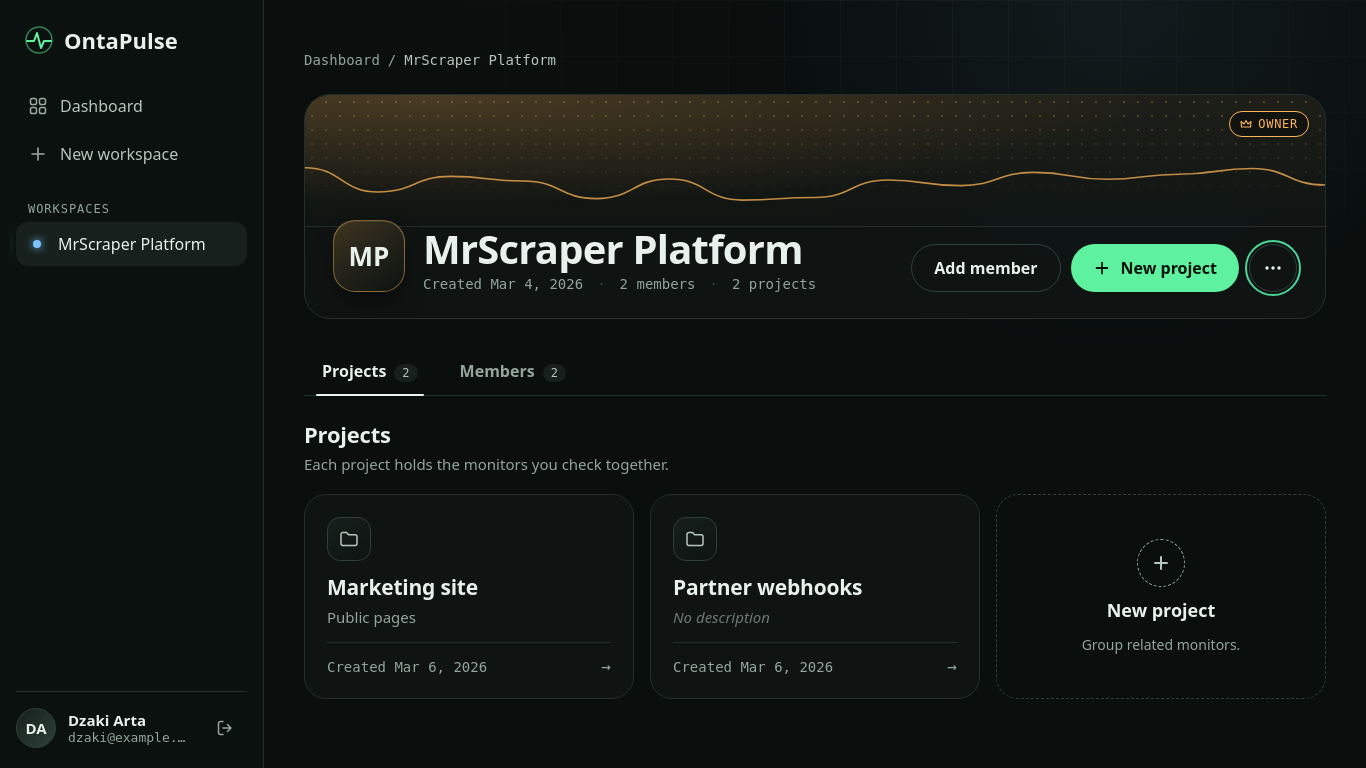
it: WorkspacePage › rename and delete › renames the workspace and updates the title
Press Enter
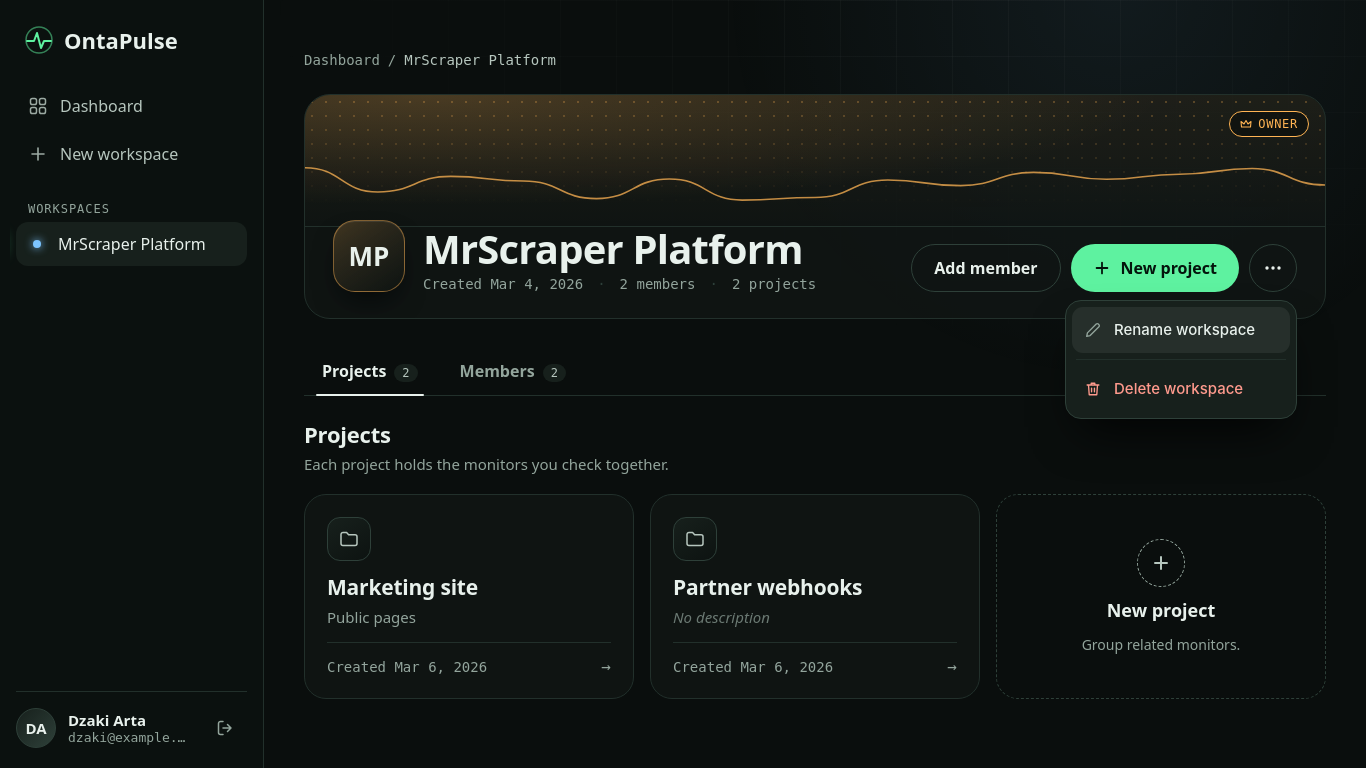
Click the menu item "Rename workspace". click: [1181, 330]
box: [1072,307,1290,353]
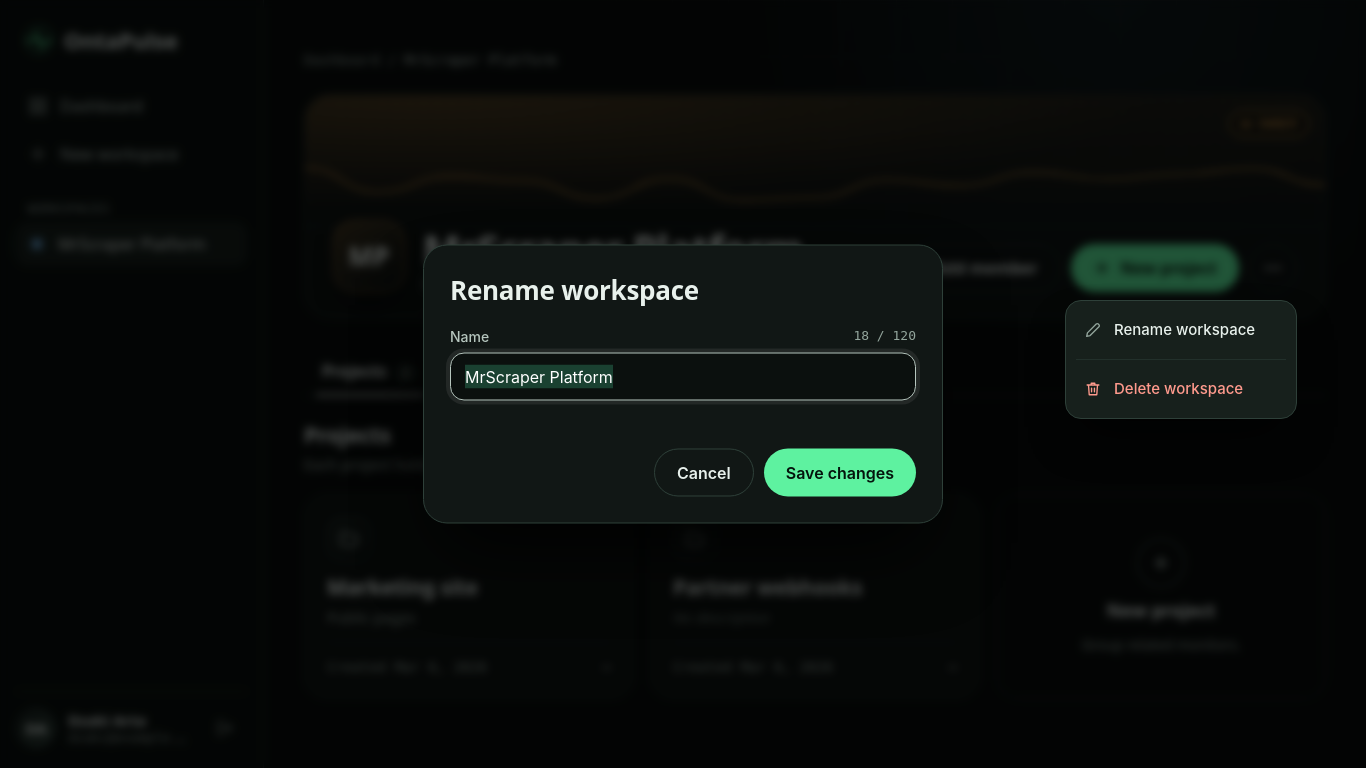
Replace the text in the field labelled "Name" with "Renamed". click: [683, 376]
box: [450,352,916,400]
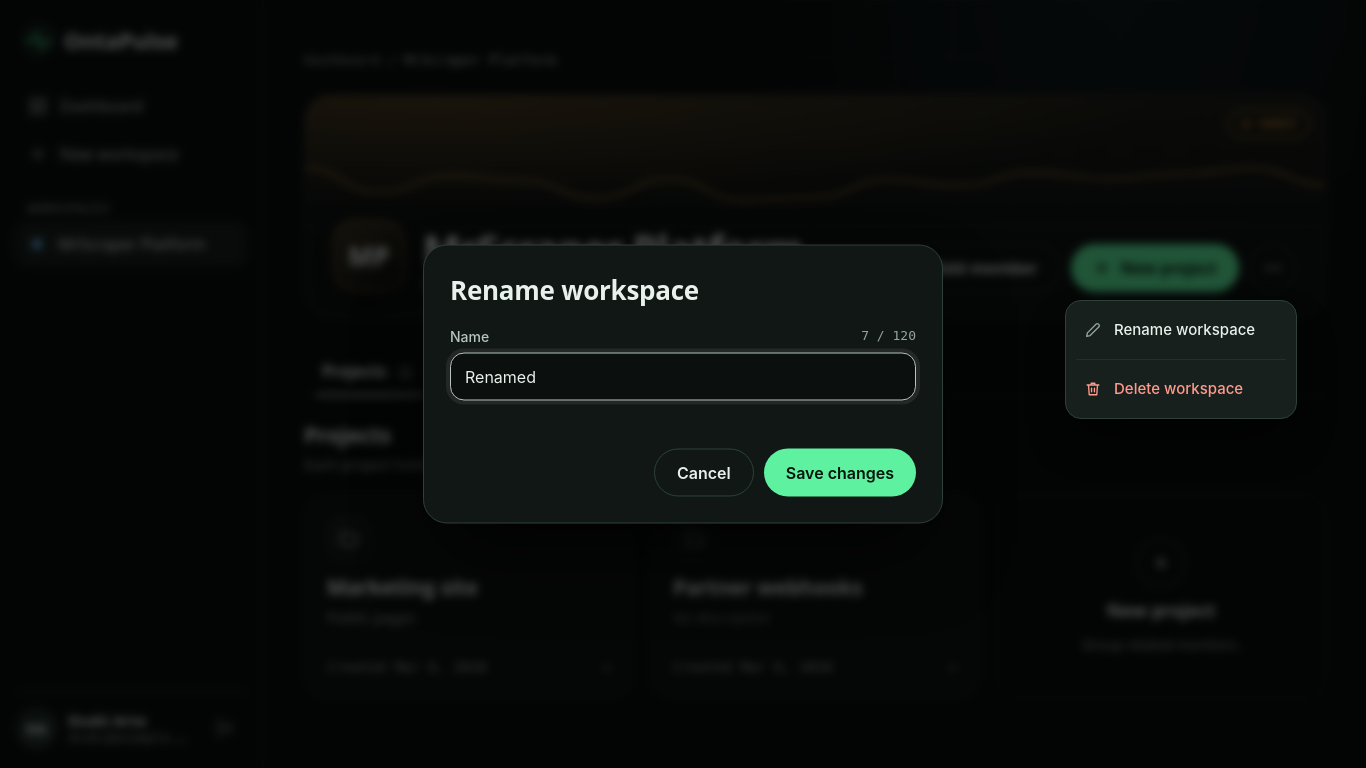
Click the button "Save changes". click: [840, 472]
box: [764,448,916,496]
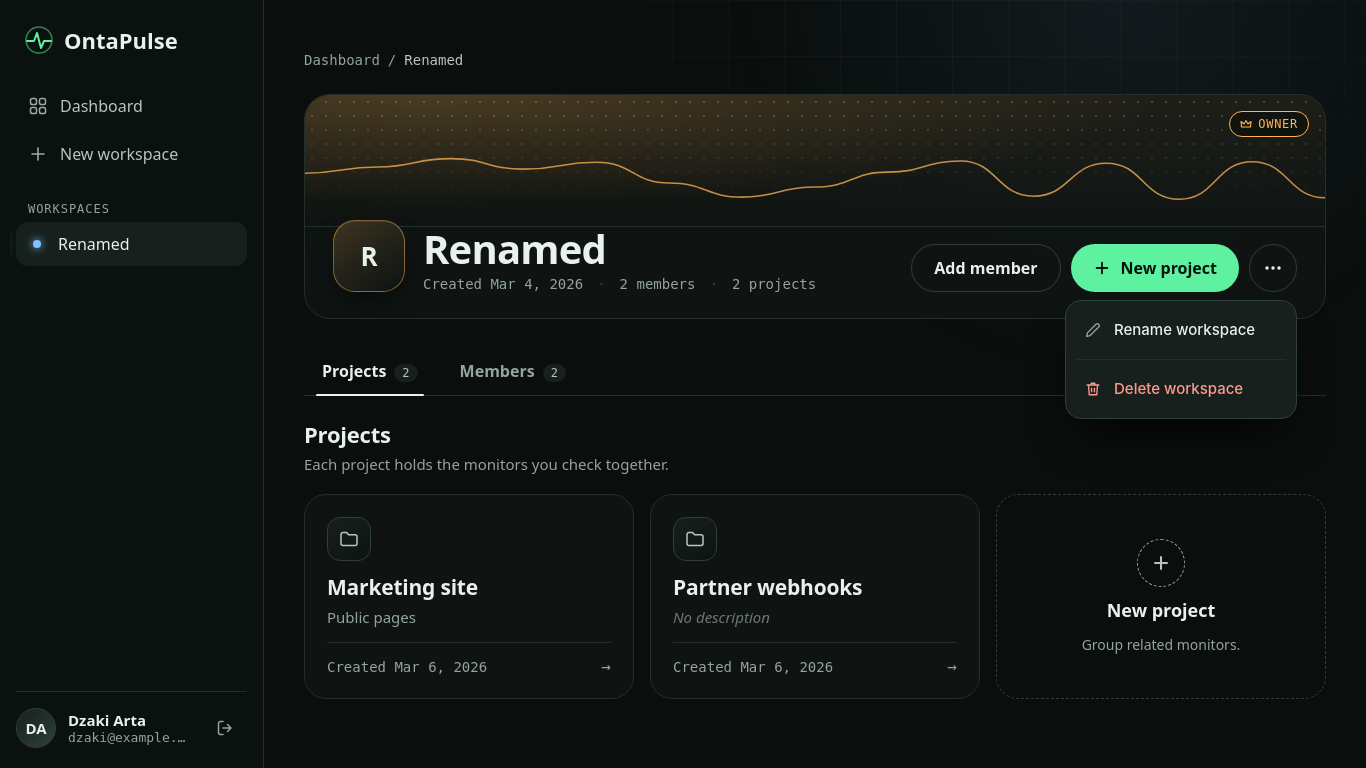
Expected: the heading "Renamed" is shown, [423,221,606,276]
Expected: the dialog is gone
